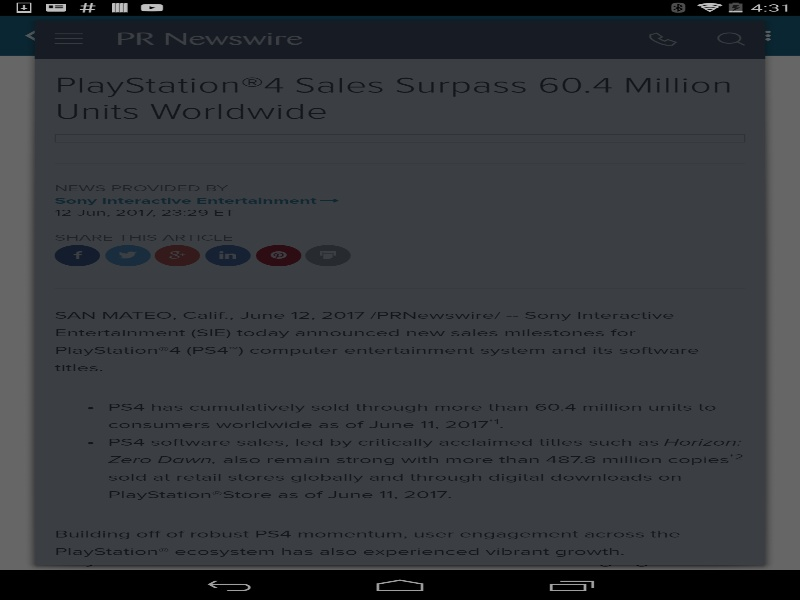Button: (629, 20, 697, 58), (697, 20, 765, 58)
